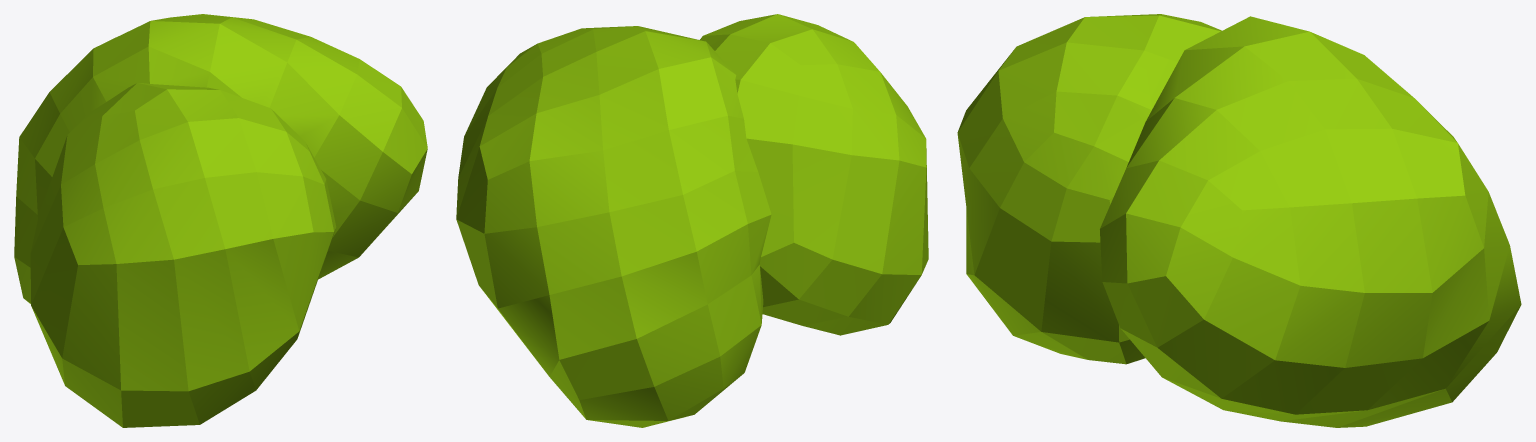
File: tree_big_7_round.fbx
3 renders of one model, left to right at view 1: azimuth 30°, elevation 25°; view 2: azimuth 150°, elevation 25°; view 3: azimuth 270°, elevation 25°, orthographic. The views are drawn at different scales.
Visible parts, largest first — view 1: tree_big_7_round; view 2: tree_big_7_round; view 3: tree_big_7_round.
Part boxes in pixels (x1,y1,x2,y2): tree_big_7_round: (14, 14, 427, 427); tree_big_7_round: (456, 14, 928, 427); tree_big_7_round: (957, 14, 1521, 427).
Bounding box in the file's own units: 165 × 139 × 174.
